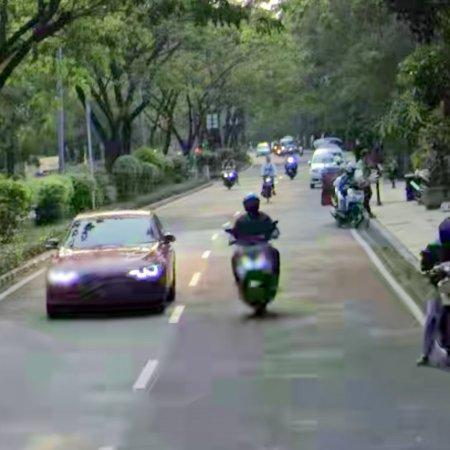motorcycles: (226, 194, 280, 316)
